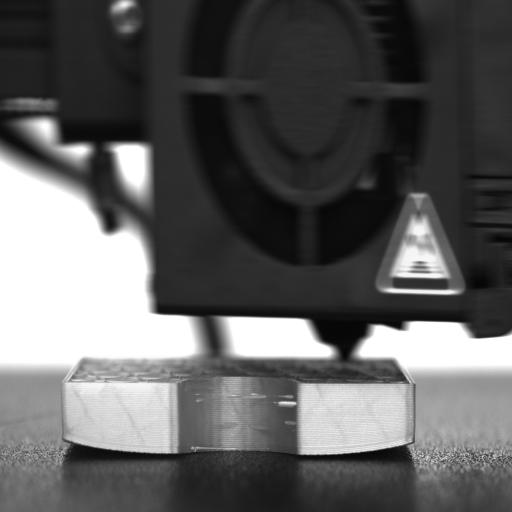warp: (347, 414, 420, 462), (61, 421, 112, 458)
